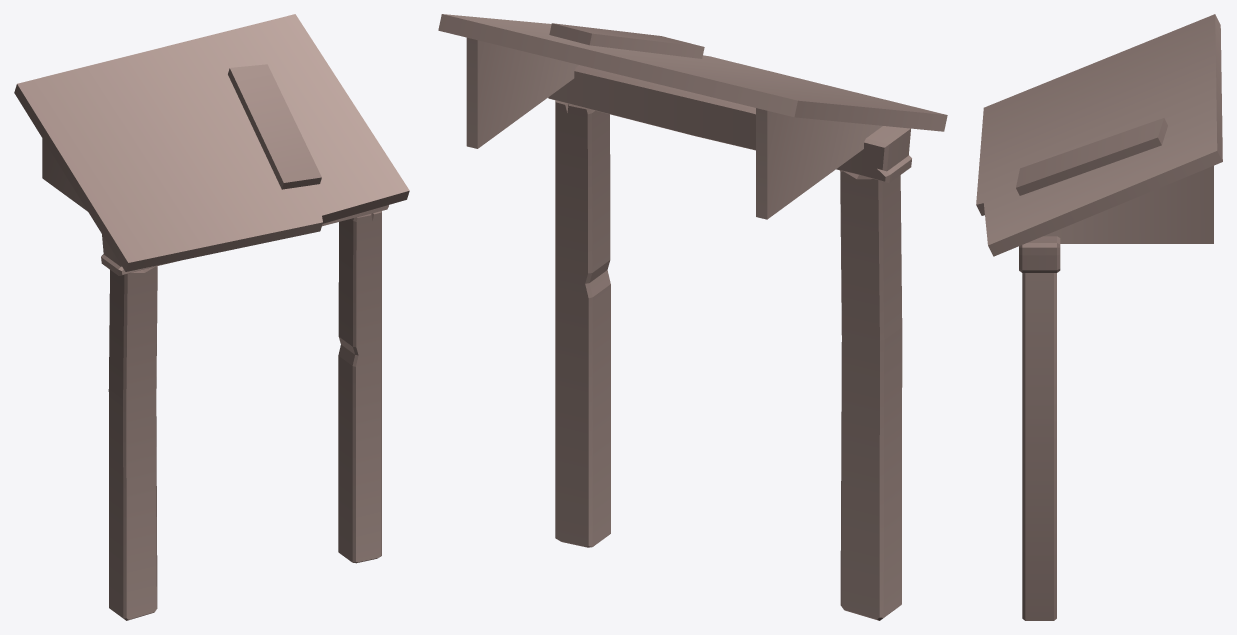
The model's file is patio-cover.glb.
3 views of the same model, side by side, from view 1: azimuth 30°, elevation 25°; view 2: azimuth 150°, elevation 25°; view 3: azimuth 270°, elevation 25° (orthographic). The views are drawn at different scales.
Visible parts, largest first — view 1: Line071, Line066_med_diffuse_0, Line072, Mesh001_med_diffuse_0; view 2: Line066_med_diffuse_0, Line071, Mesh001_med_diffuse_0, Line072; view 3: Line071, Line066_med_diffuse_0, Mesh001_med_diffuse_0, Line072.
Part boxes in pixels (x1,y1,x2,y2): Line071: [14, 14, 409, 271]; Line066_med_diffuse_0: [101, 205, 388, 620]; Line072: [228, 64, 321, 189]; Mesh001_med_diffuse_0: [42, 138, 87, 211]; Line066_med_diffuse_0: [548, 65, 911, 620]; Line071: [438, 14, 947, 131]; Mesh001_med_diffuse_0: [466, 37, 882, 219]; Line072: [549, 23, 704, 58]; Line071: [976, 14, 1222, 256]; Line066_med_diffuse_0: [1019, 236, 1060, 620]; Mesh001_med_diffuse_0: [1043, 166, 1213, 243]; Line072: [1016, 118, 1167, 195].
Size of the model in its own units: 1.72 by 2.75 by 1.29.
Materials: 1 (1 with a texture image).
